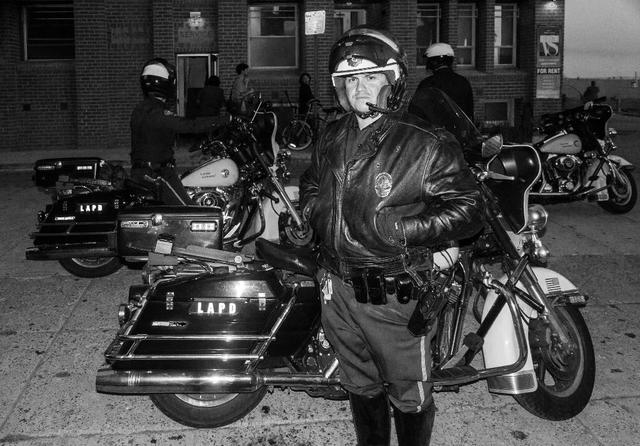helmet: (326, 37, 411, 111), (143, 61, 179, 89), (424, 45, 461, 66)
